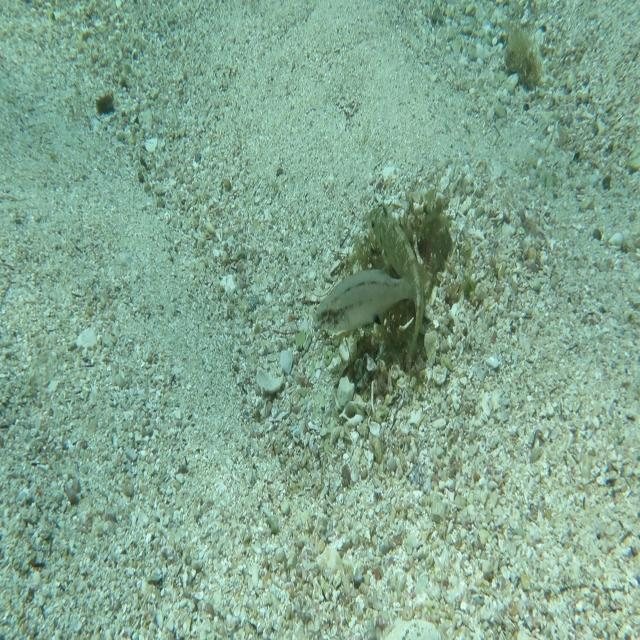BEND: (365, 199, 426, 370)
female: (312, 259, 428, 334)
nest: (330, 182, 463, 401)
